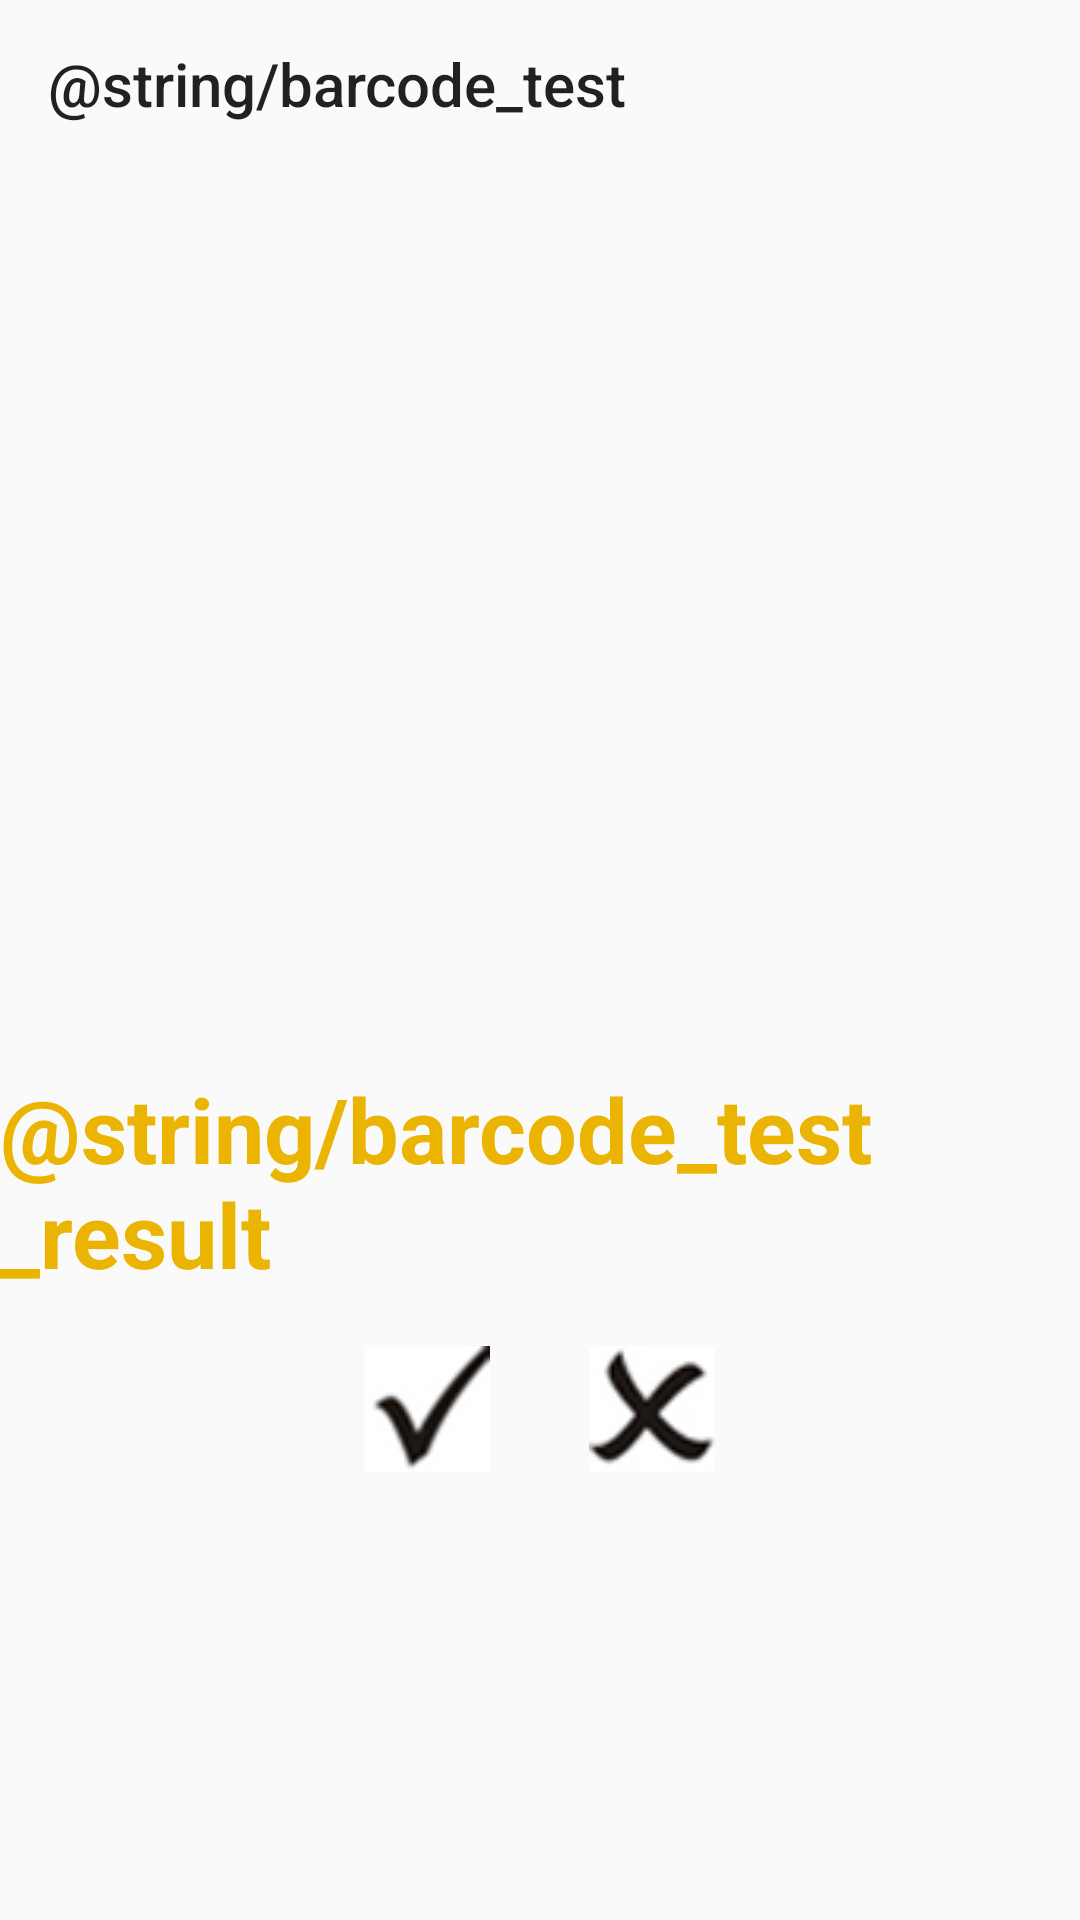

Point at icon controls on the screen. Image size 1080 x 1920, points as point (x, y).
check cross: point (651, 1407)
check ok: point (432, 1406)
